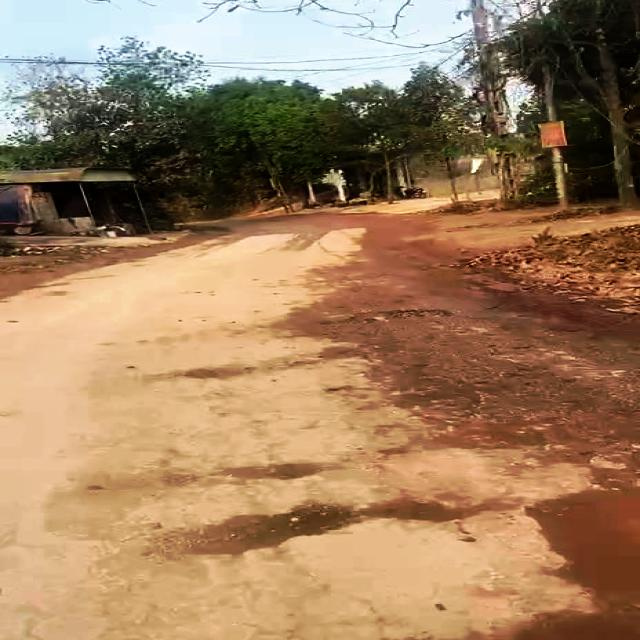pothole: (148, 489, 491, 567), (491, 475, 640, 640), (225, 450, 336, 484), (330, 302, 458, 328)
